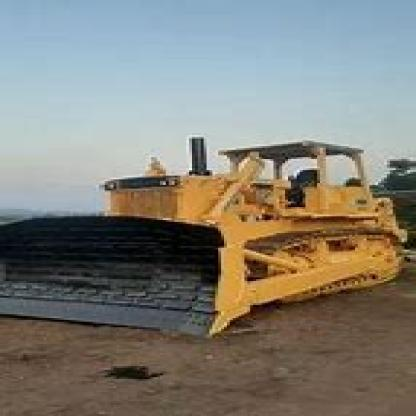bull_dozer/loader/grader: (0, 137, 413, 340)
